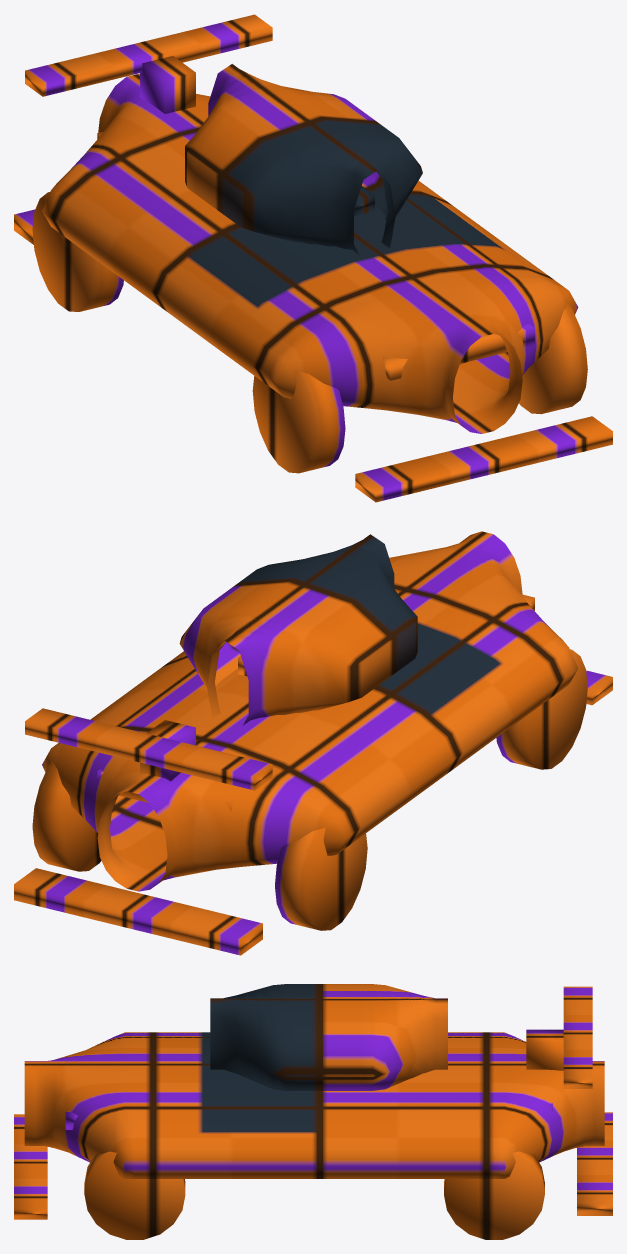
Rendered from Rival_02_FastbackMuscle.obj.
3 renders of one model, top to bottom at view 1: azimuth 30°, elevation 25°; view 2: azimuth 150°, elevation 25°; view 3: azimuth 270°, elevation 25°, orthographic. The views are drawn at different scales.
Visible parts, largest first — view 1: Rival_02_FastbackMuscle_LOD0; view 2: Rival_02_FastbackMuscle_LOD0; view 3: Rival_02_FastbackMuscle_LOD0.
Boxes of the visible parts, x1,y1,x2,y2 form: Rival_02_FastbackMuscle_LOD0: (14, 14, 612, 502); Rival_02_FastbackMuscle_LOD0: (14, 531, 612, 955); Rival_02_FastbackMuscle_LOD0: (14, 984, 612, 1239).
Size of what is drawn, in the model's own units: 2.38 by 1.72 by 4.98.
Materials: 4 (4 with a texture image).
